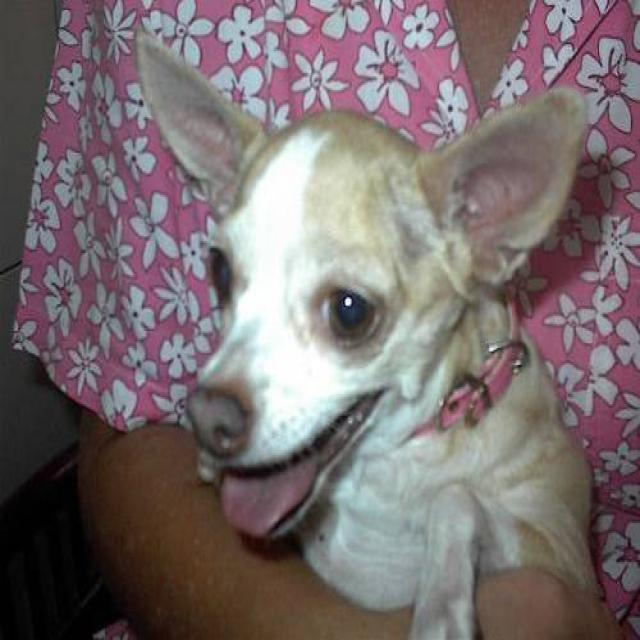dogs: (138, 32, 627, 640)
